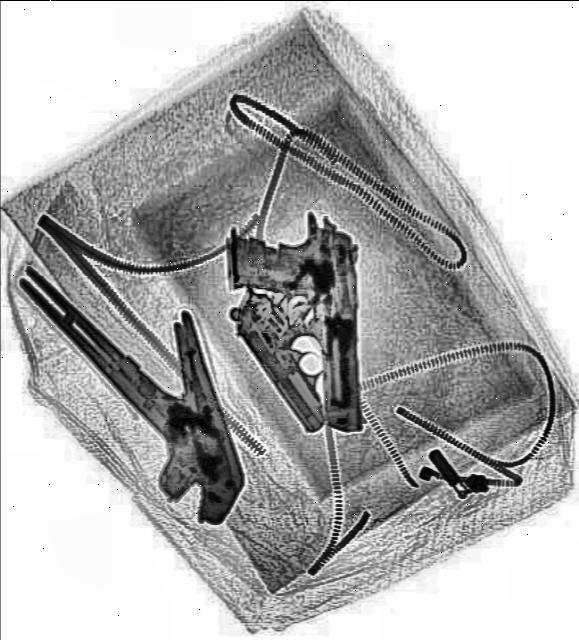Gun: (222, 258, 384, 434), (226, 219, 356, 431)
